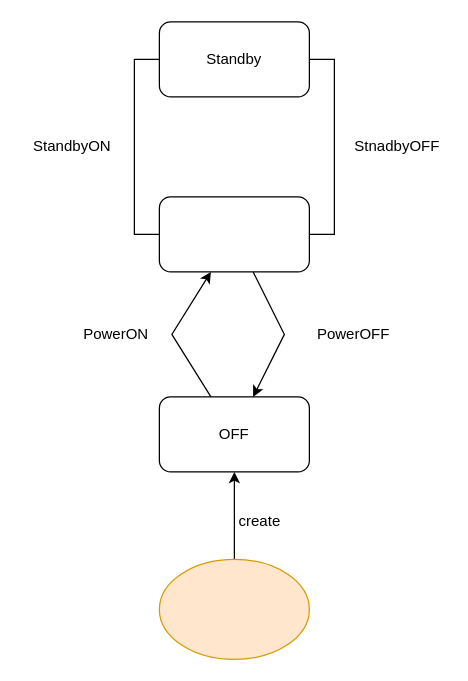
The diagram is 468 pixels wide and 681 high, and some of its shapes have lost their labels. The shapes that lost their labels are listed below. From the top down, each one's box as (x1, y1, x2, y2) in pixels, then its label:
(158, 196, 309, 272): ON
(158, 558, 309, 659): COPIER
